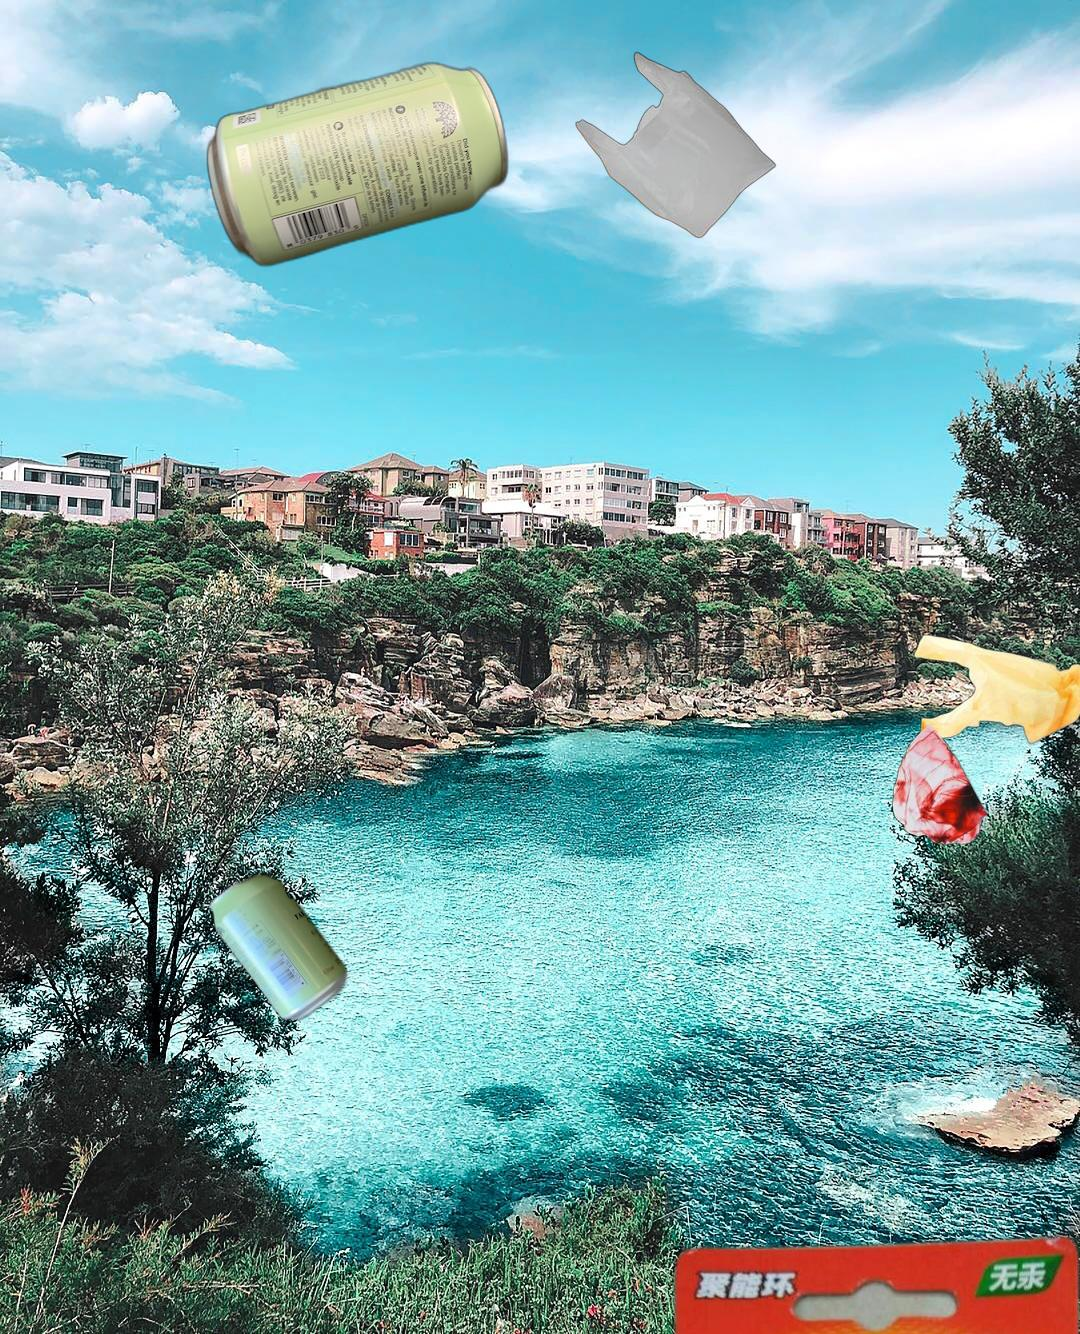battery: (401, 1225, 1080, 1334)
metal-cans: (202, 58, 514, 272), (204, 868, 350, 1027)
plastic-bag: (847, 584, 1080, 849), (575, 51, 779, 241)
